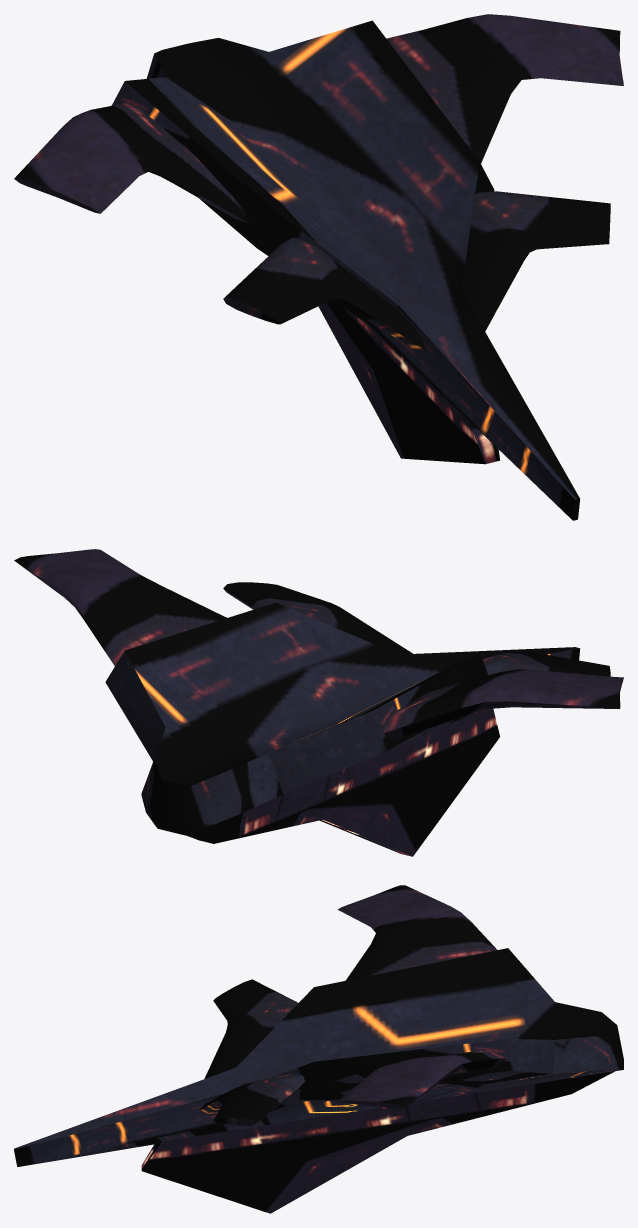
Rendered from ship16c.fbx.
The picture shows the model from 3 angles, top to bottom: view 1: azimuth 30°, elevation 25°; view 2: azimuth 150°, elevation 25°; view 3: azimuth 270°, elevation 25°; orthographic projection. The views are drawn at different scales.
Parts seen in each view (by area): view 1: PipelineFBX; view 2: PipelineFBX; view 3: PipelineFBX.
Part boxes in pixels (left/top/right/bottom): PipelineFBX: left=14, top=14, right=623, bottom=520; PipelineFBX: left=14, top=549, right=623, bottom=856; PipelineFBX: left=14, top=885, right=623, bottom=1213.
Size of the model in its own units: 224 by 108 by 260.
1 material, 1 textured.
